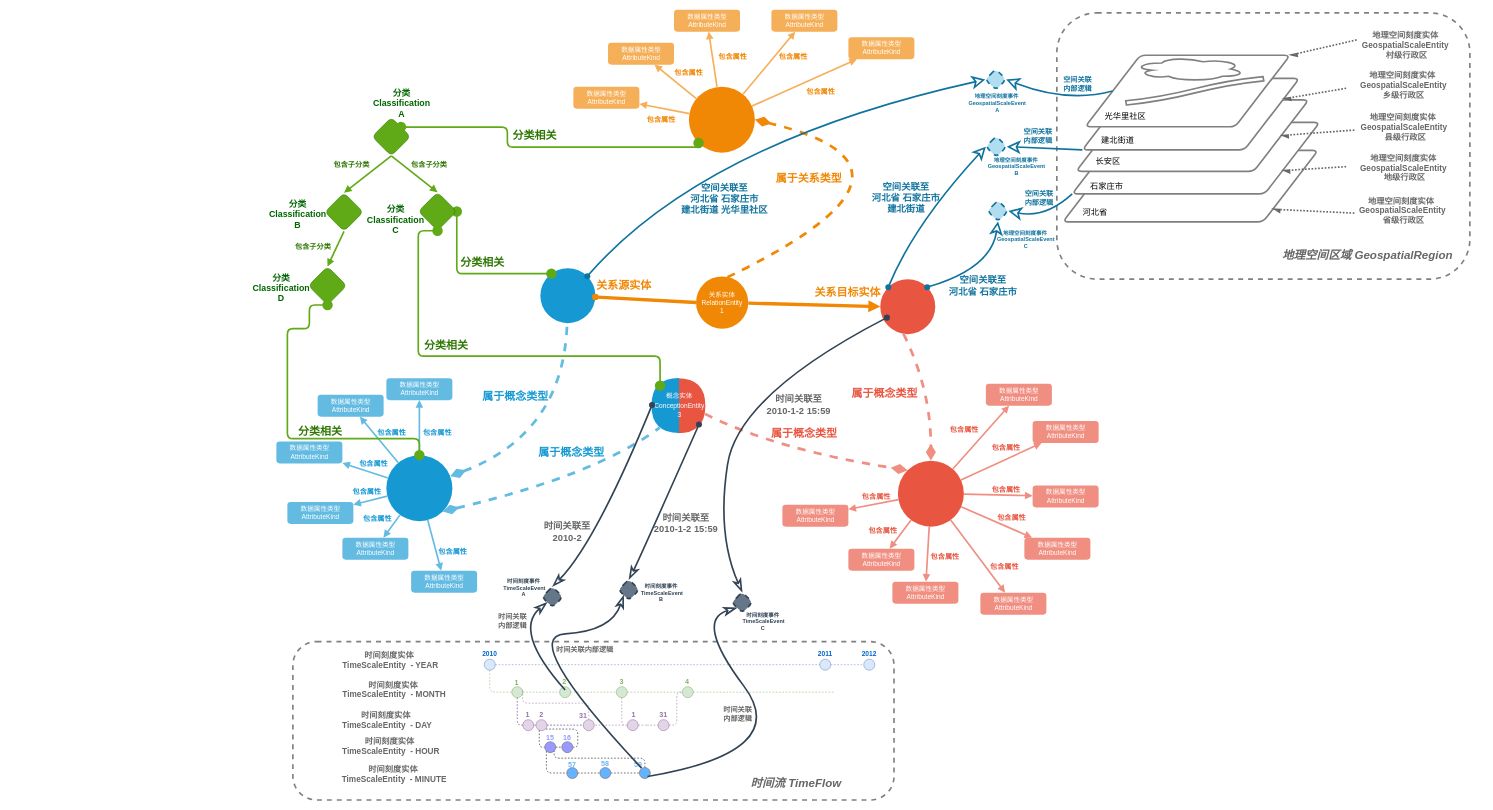
Some shapes in this 1493 by 810 pixel diagram are drawn without their labels. The centre of each missing label's shape, as x and y in pixels:
关系类型 RelationKind A: the point at 722,119
概念实体 ConceptionEntity 1: the point at 567,295
概念实体ConceptionEntity 2: the point at 907,306
概念类型 ConceptionKind A: the point at 931,493
概念类型 ConceptionKind B: the point at 419,488
